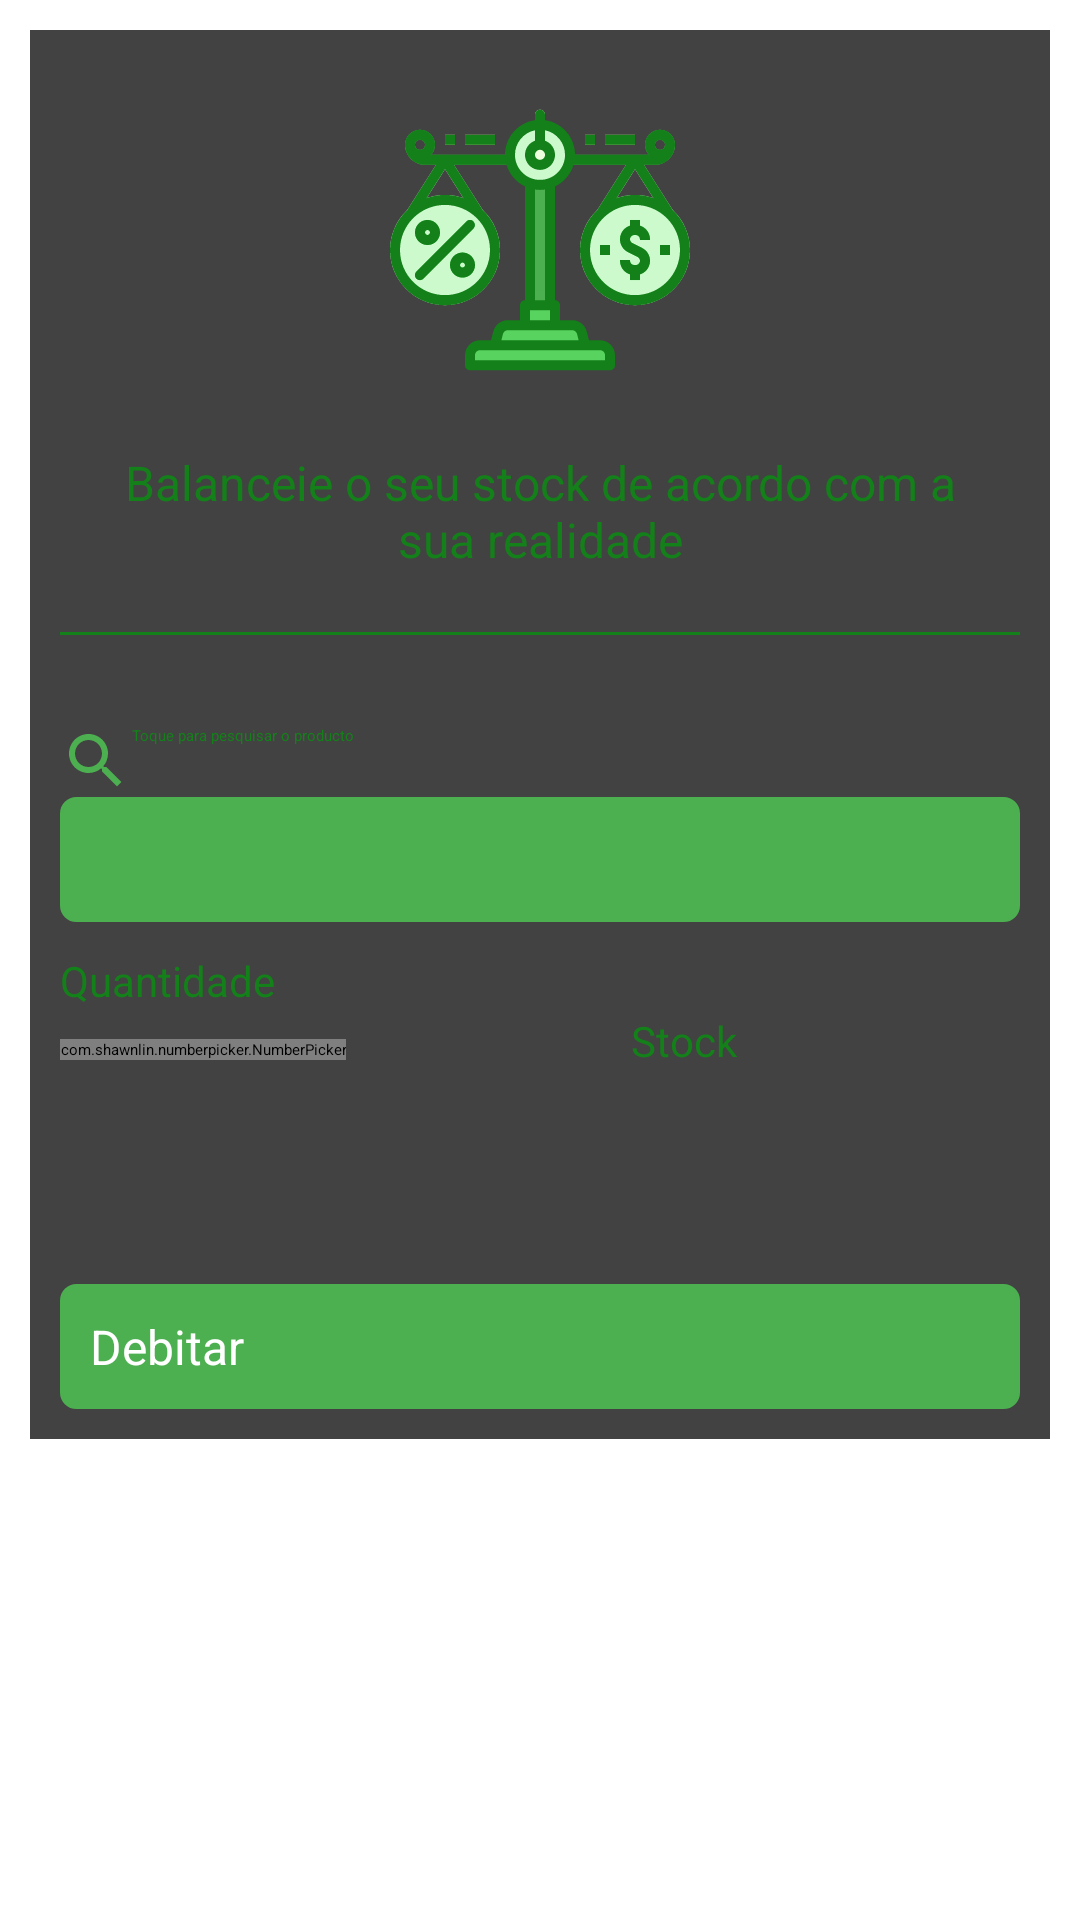

Icon bounding boxes for this 1080px x 1920px phone screenshot, format box(x1, y1, x2, y2):
Balanço: box(390, 109, 690, 370)
